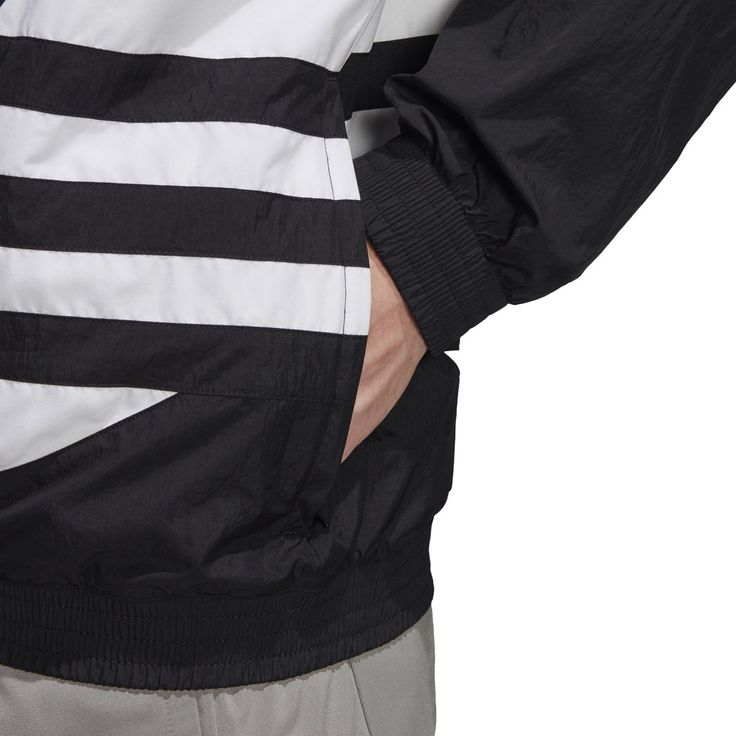nylon: (1, 1, 736, 690)
